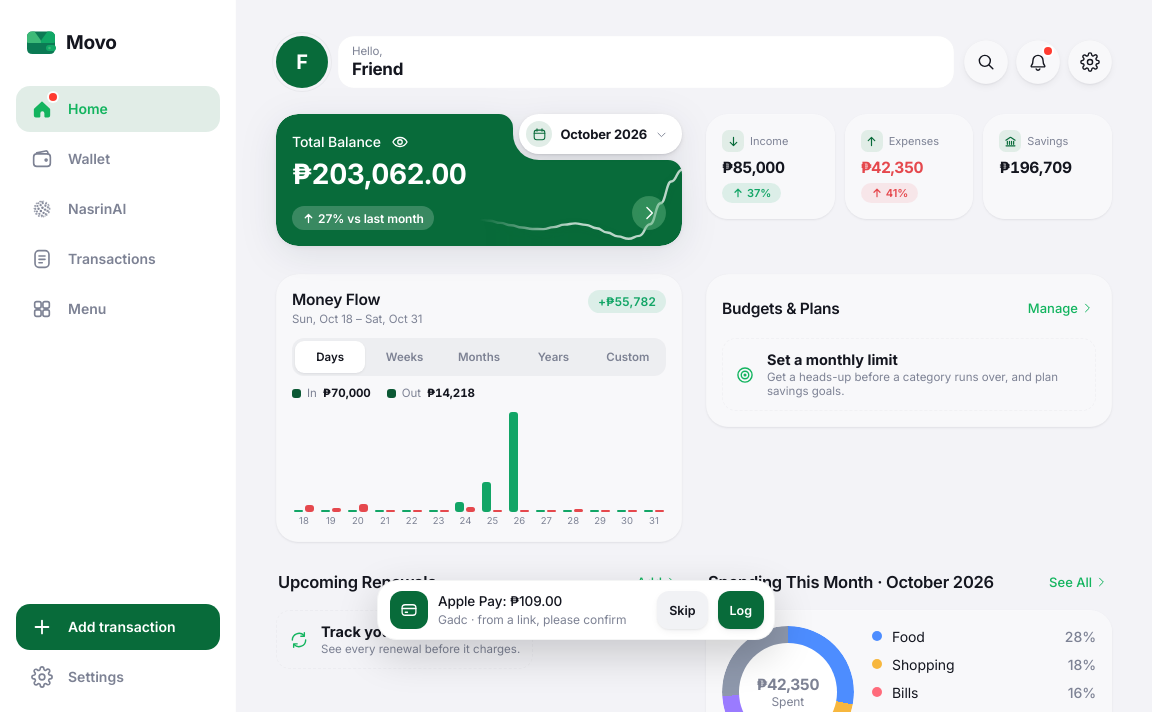
it: MOVO finance frontend › Apple Pay payment prompt Log button opens a prefilled expense form
Check: the dialog named "Log this payment?" is shown, box [377,580,775,640]
Click the button "Log".
click(741, 610)  # box [718,591,764,629]
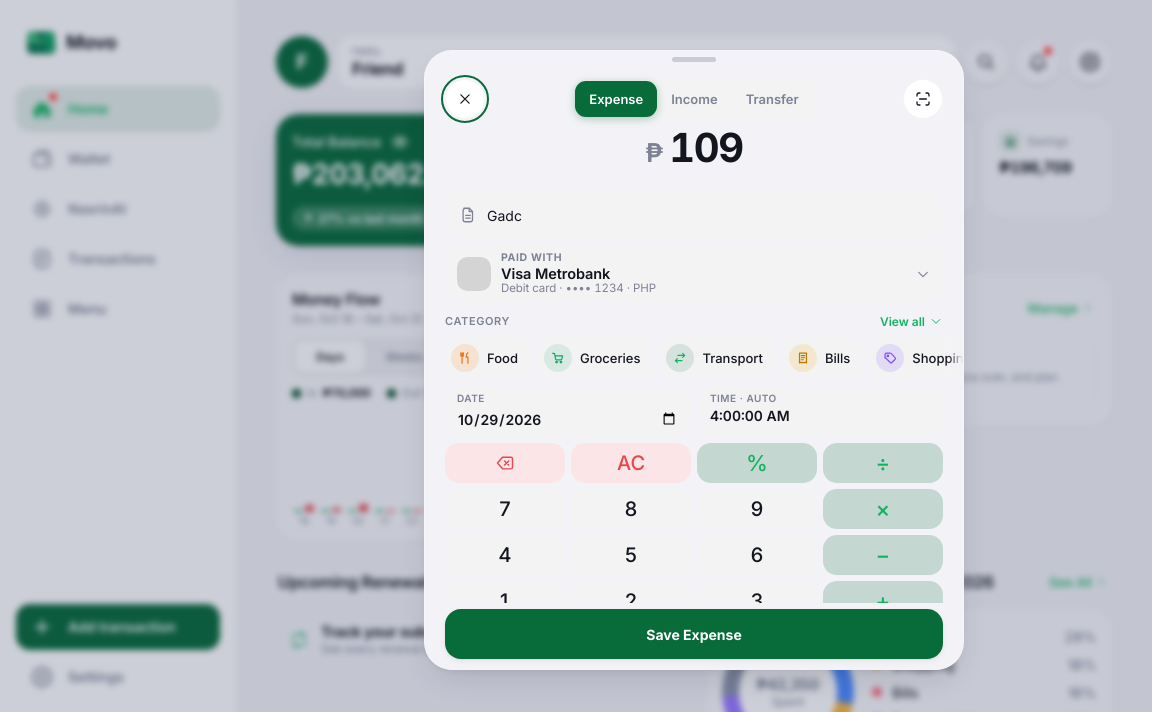
Check: the text named "Amount" reads "109", box [669,123,743,172]
Check: the dialog named "Add transaction" is shown, box [424,50,964,670]
